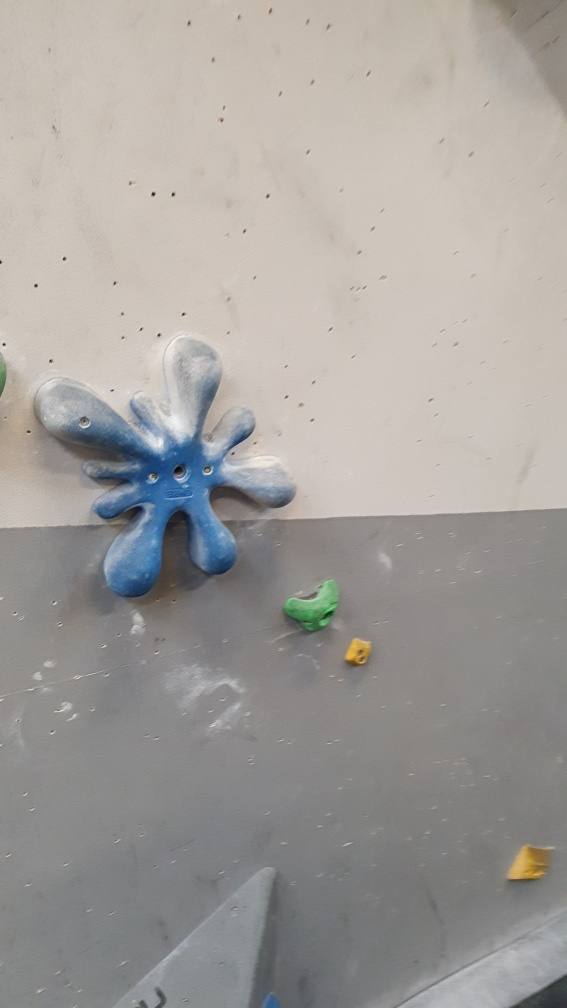Jug: (281, 574, 353, 638)
Octopus Pinch: (29, 328, 301, 604)
